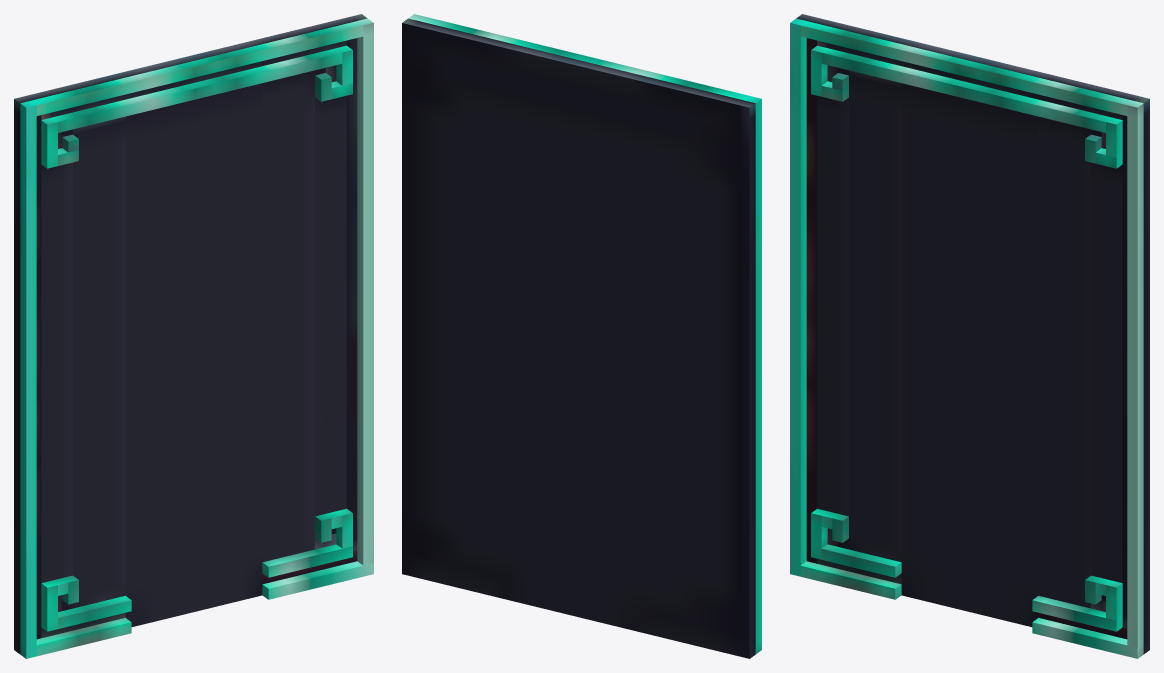
The model's file is BillboardModule_Backplate_D_00.fbx.
The picture shows the model from 3 angles, left to right: view 1: azimuth 30°, elevation 25°; view 2: azimuth 150°, elevation 25°; view 3: azimuth 330°, elevation 25°; orthographic projection.
Visible parts, largest first — view 1: BillboardModule_Backplate_D_00; view 2: BillboardModule_Backplate_D_00; view 3: BillboardModule_Backplate_D_00.
Boxes of the visible parts, left/top/right/bottom form: BillboardModule_Backplate_D_00: left=14, top=14, right=373, bottom=658; BillboardModule_Backplate_D_00: left=402, top=14, right=761, bottom=658; BillboardModule_Backplate_D_00: left=790, top=14, right=1149, bottom=658.
Size of the model in its own units: 165 by 250 by 10.
